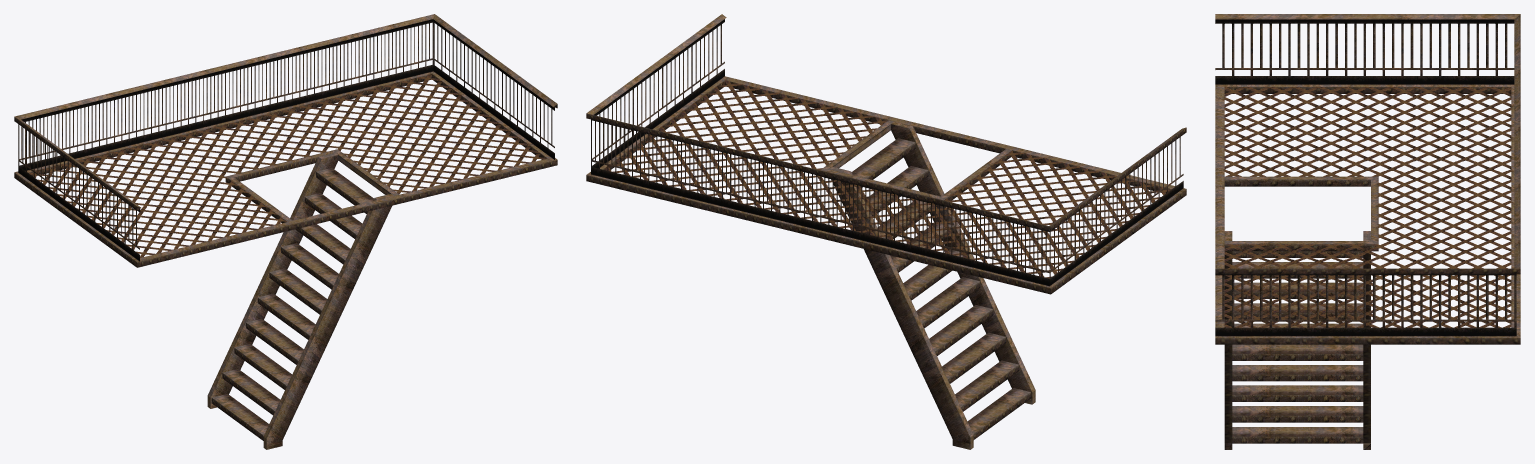
Rendered from fire_escape_short.fbx.
3 renders of one model, left to right at view 1: azimuth 30°, elevation 25°; view 2: azimuth 150°, elevation 25°; view 3: azimuth 270°, elevation 25°, orthographic. The views are drawn at different scales.
Visible parts, largest first — view 1: mesh_1, mesh_0, mesh_2; view 2: mesh_1, mesh_0, mesh_2; view 3: mesh_1, mesh_0, mesh_2.
Boxes of the visible parts, x1=… form: mesh_1: x1=14, y1=14, x2=557, y2=449; mesh_0: x1=28, y1=74, x2=547, y2=257; mesh_2: x1=211, y1=168, x2=373, y2=440; mesh_1: x1=586, y1=14, x2=1186, y2=449; mesh_0: x1=605, y1=80, x2=1171, y2=278; mesh_2: x1=851, y1=138, x2=1030, y2=439; mesh_1: x1=1215, y1=14, x2=1520, y2=449; mesh_0: x1=1224, y1=87, x2=1511, y2=327; mesh_2: x1=1232, y1=251, x2=1363, y2=443.
Bounding box in the file's own units: 790 × 500 × 400.
2 materials, 2 textured.
